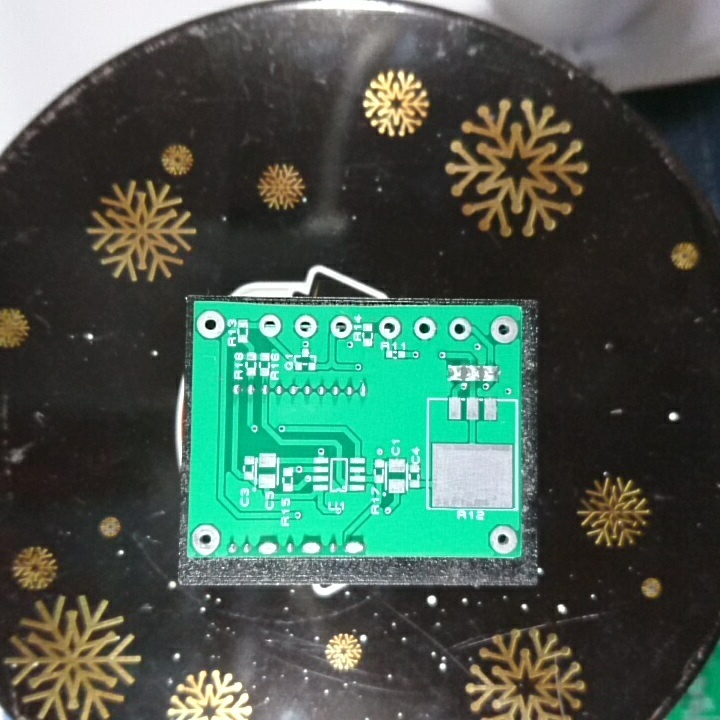F: (190, 523, 223, 556), (195, 308, 228, 340), (488, 523, 519, 556), (488, 315, 519, 344), (292, 312, 322, 340), (257, 312, 285, 339), (411, 314, 438, 342), (445, 315, 473, 341), (377, 314, 404, 340), (328, 314, 354, 340)
P: (299, 538, 325, 558), (255, 538, 281, 557), (342, 539, 367, 557)
